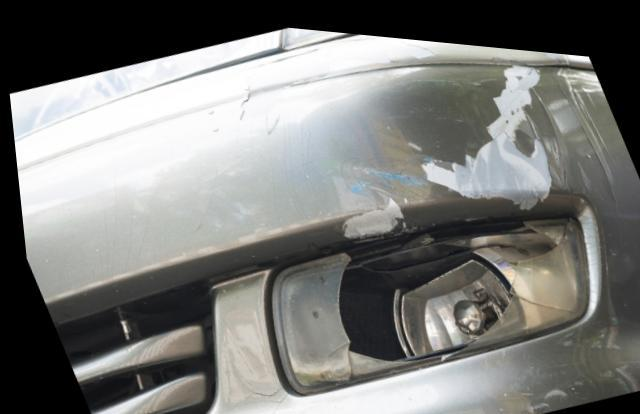lamp broken: (264, 204, 586, 388)
scratch: (324, 47, 556, 237)
